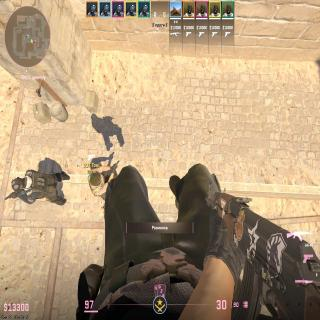CT-Body: (12, 168, 71, 206)
CT-Head: (11, 178, 24, 191)
T-Body: (86, 165, 108, 200)
T-Head: (90, 172, 100, 187)
